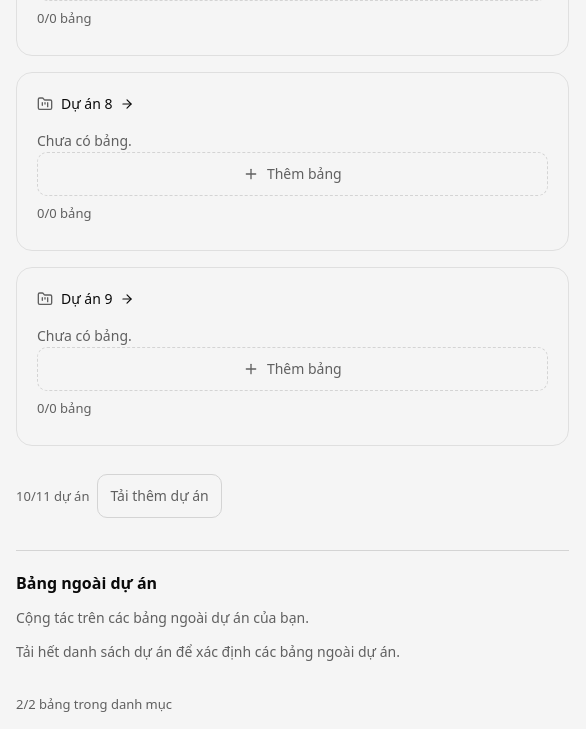
it: keeps custom project roles in participating projects and waits for all pages before guest classification
(page scrolled)
expect the text "Bảng khách thật" is not shown: met
Click the button "Tải thêm dự án": (160,496) 98,474 -> 222,518
(page scrolled)
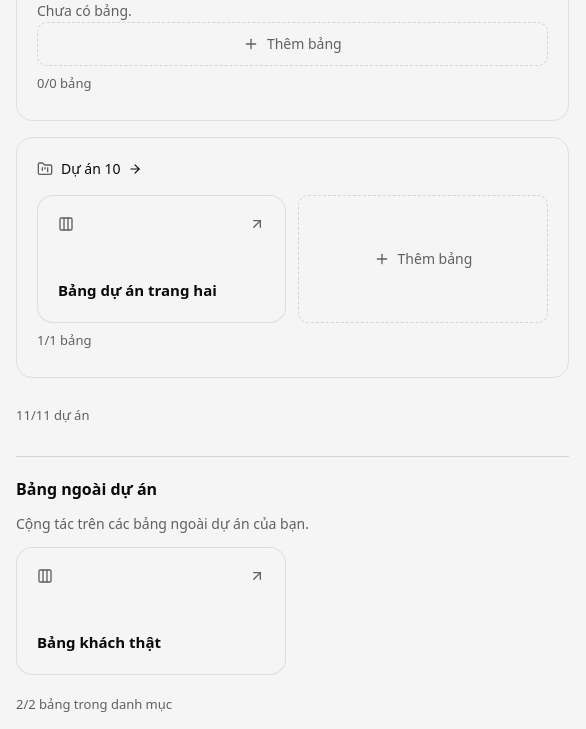
expect the text "Bảng khách thật" is shown: met, box 37,632 -> 161,652
